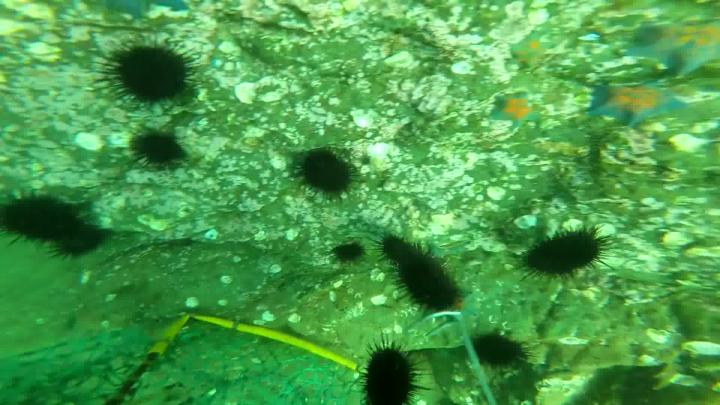echinus: (375, 233, 460, 312), (3, 194, 102, 257), (97, 42, 196, 104), (520, 225, 615, 280), (357, 340, 424, 405), (300, 146, 367, 199), (473, 335, 532, 372), (130, 132, 185, 164), (330, 245, 366, 262)
scallop: (682, 340, 720, 358), (672, 137, 709, 153), (353, 109, 383, 128), (386, 54, 418, 71), (78, 133, 103, 154), (646, 328, 675, 343), (242, 78, 256, 107), (670, 376, 701, 388), (515, 217, 541, 228), (451, 63, 474, 75), (489, 190, 509, 202), (562, 339, 592, 346), (185, 297, 200, 308), (287, 229, 300, 241), (264, 313, 278, 323), (291, 313, 302, 324), (207, 232, 220, 241), (271, 266, 282, 273)
starfish: (626, 17, 720, 81), (587, 76, 686, 131), (493, 90, 539, 129), (512, 34, 555, 70)
